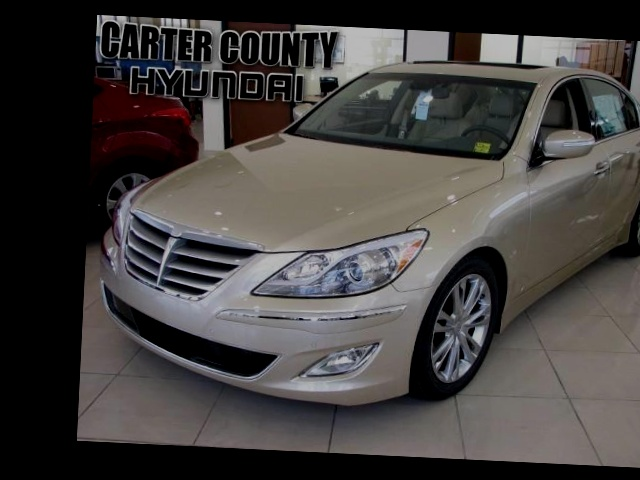car: (96, 39, 640, 438)
